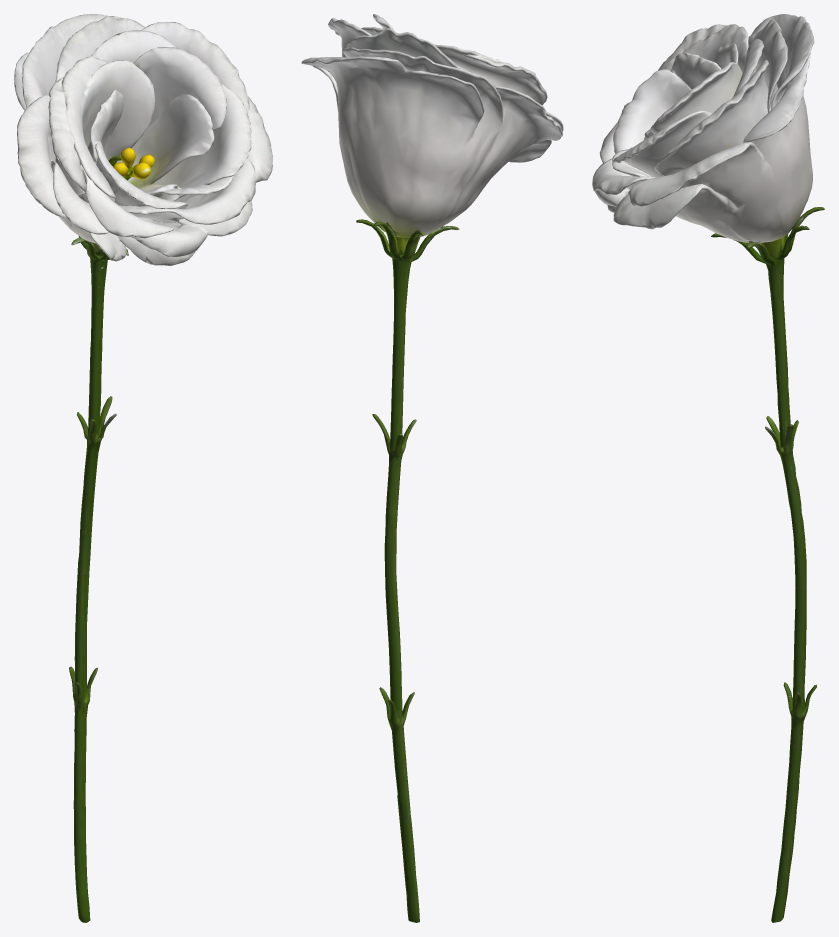
Rendered from white.glb.
The picture shows the model from 3 angles, left to right: view 1: azimuth 30°, elevation 25°; view 2: azimuth 150°, elevation 25°; view 3: azimuth 270°, elevation 25°; orthographic projection.
Size of the model in its own units: 0.5283 by 1.9 by 0.4435.
Materials: 1 (1 with a texture image).
